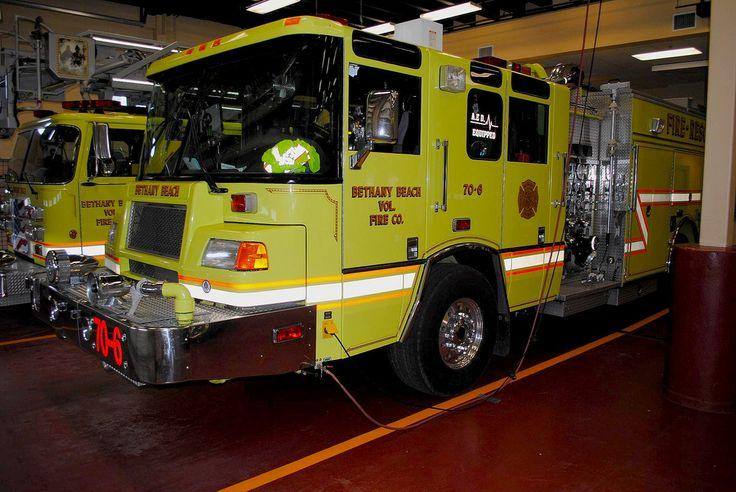firetruck_off: (33, 15, 736, 400), (2, 7, 145, 307)
